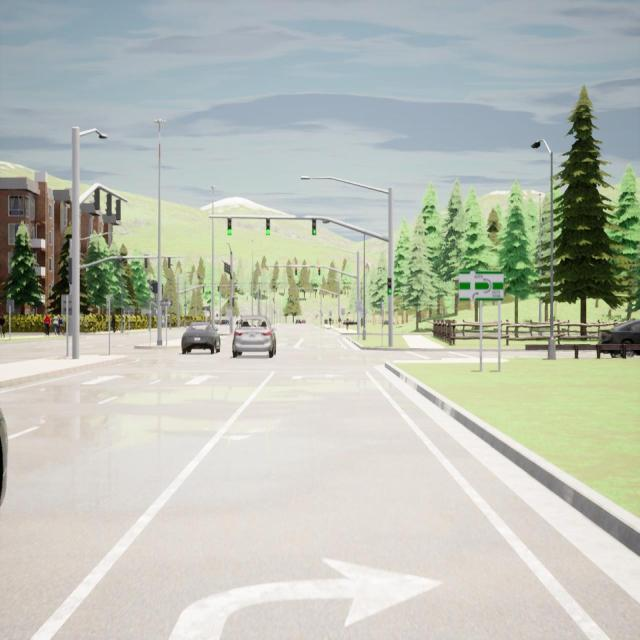Pedestrian: (52, 314, 59, 336), (0, 313, 6, 338), (44, 314, 50, 336), (111, 312, 116, 333), (60, 315, 64, 335), (338, 316, 341, 329), (329, 316, 332, 328), (346, 318, 349, 330)
Traffic_Signs: (458, 270, 504, 301), (61, 296, 73, 316), (7, 300, 14, 313), (354, 301, 363, 310), (160, 301, 173, 306), (227, 310, 232, 318)
Vehicle: (232, 316, 277, 357), (598, 315, 640, 357), (182, 322, 220, 355), (1, 405, 10, 511), (295, 318, 301, 324), (302, 319, 306, 325)
traffic_light: (66, 258, 72, 284), (94, 188, 100, 210), (106, 193, 111, 216), (116, 197, 120, 221), (227, 217, 232, 235), (387, 277, 392, 295), (266, 217, 270, 235), (312, 218, 316, 235), (144, 258, 148, 268), (232, 297, 235, 307), (223, 263, 226, 272), (168, 257, 170, 269), (296, 266, 298, 276), (318, 266, 320, 276), (226, 264, 228, 273), (228, 266, 230, 274)
